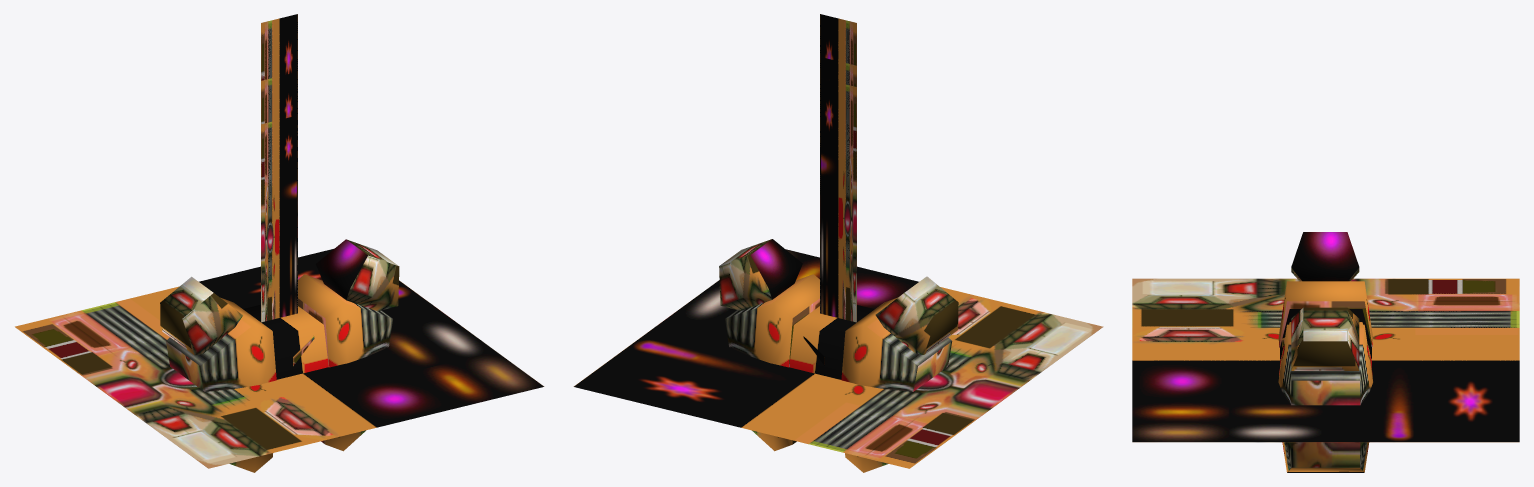
File: datan_common__up_a77923c7.obj
3 views of the same model, side by side, from view 1: azimuth 30°, elevation 25°; view 2: azimuth 150°, elevation 25°; view 3: azimuth 270°, elevation 25° (orthographic).
Parts seen in each view (by area): view 1: datan_common__up_a77923c7_mesh05, datan_common__up_a77923c7_mesh00, datan_common__up_a77923c7_mesh13, datan_common__up_a77923c7_mesh10, datan_common__up_a77923c7_mesh07; view 2: datan_common__up_a77923c7_mesh05, datan_common__up_a77923c7_mesh00, datan_common__up_a77923c7_mesh09, datan_common__up_a77923c7_mesh10, datan_common__up_a77923c7_mesh11; view 3: datan_common__up_a77923c7_mesh05, datan_common__up_a77923c7_mesh00.
Boxes of the visible parts, x1,y1,x2,y2 form: datan_common__up_a77923c7_mesh05: [15, 249, 544, 468]; datan_common__up_a77923c7_mesh00: [160, 239, 399, 472]; datan_common__up_a77923c7_mesh13: [261, 115, 297, 322]; datan_common__up_a77923c7_mesh10: [261, 14, 297, 80]; datan_common__up_a77923c7_mesh07: [261, 72, 297, 124]; datan_common__up_a77923c7_mesh05: [573, 249, 1103, 468]; datan_common__up_a77923c7_mesh00: [719, 239, 958, 472]; datan_common__up_a77923c7_mesh09: [820, 78, 856, 322]; datan_common__up_a77923c7_mesh10: [820, 14, 856, 65]; datan_common__up_a77923c7_mesh11: [820, 57, 856, 86]; datan_common__up_a77923c7_mesh05: [1132, 278, 1519, 442]; datan_common__up_a77923c7_mesh00: [1278, 232, 1373, 472].
Bounding box in the file's own units: 0.7112 × 0.8681 × 0.7112.
Materials: 1 (1 with a texture image).
